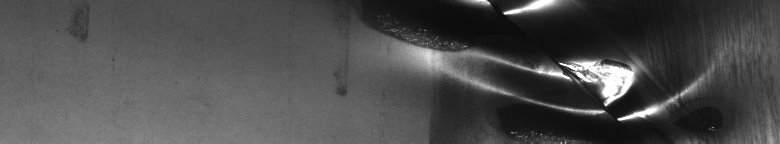ke: (383, 4, 714, 136)
